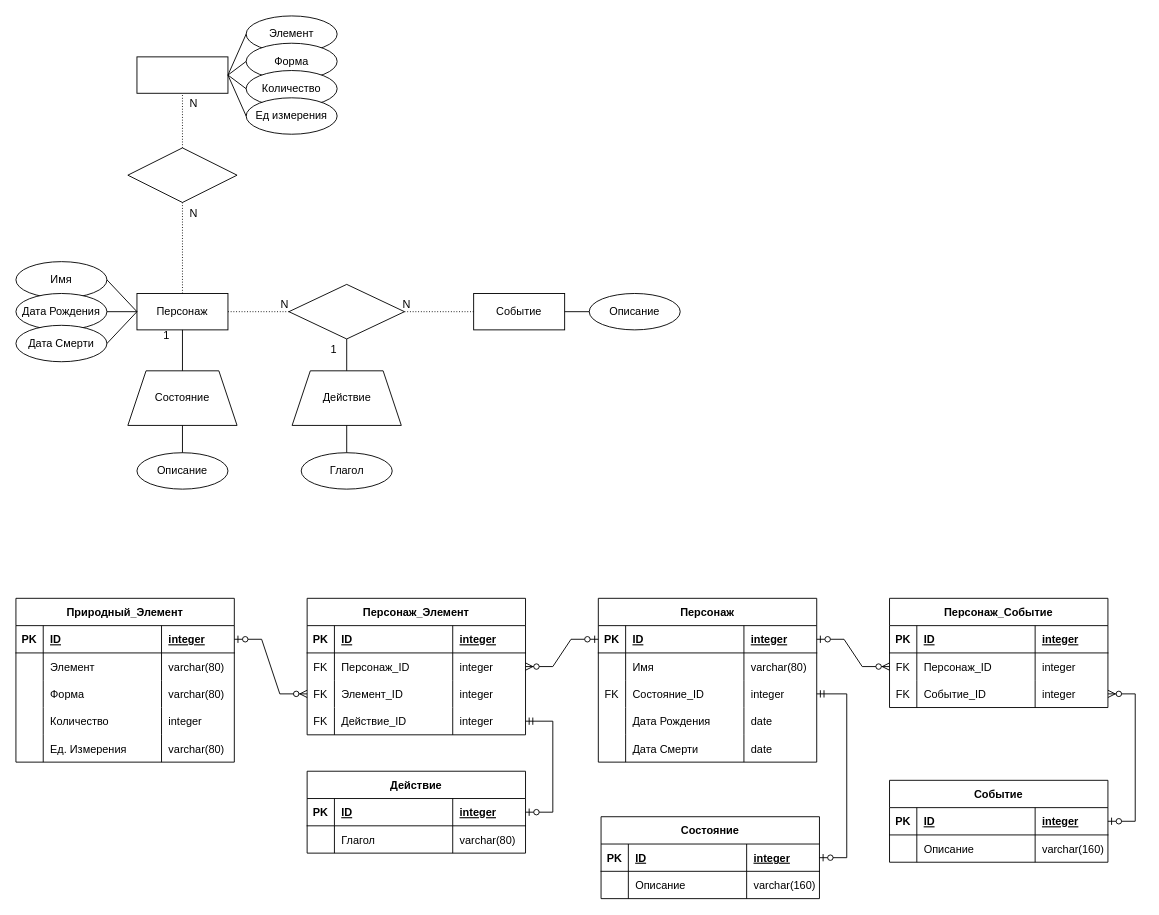
This 1159x915 diagram has some shape labels left out. The shapes that lost their labels are listed below. From the top down, each one's centre as x and y in pixels, then its label:
At (x=182, y=74): "Природный Элемент".
At (x=182, y=174): "Персонаж-Элемент".
At (x=346, y=311): "Персонаж Событие".
